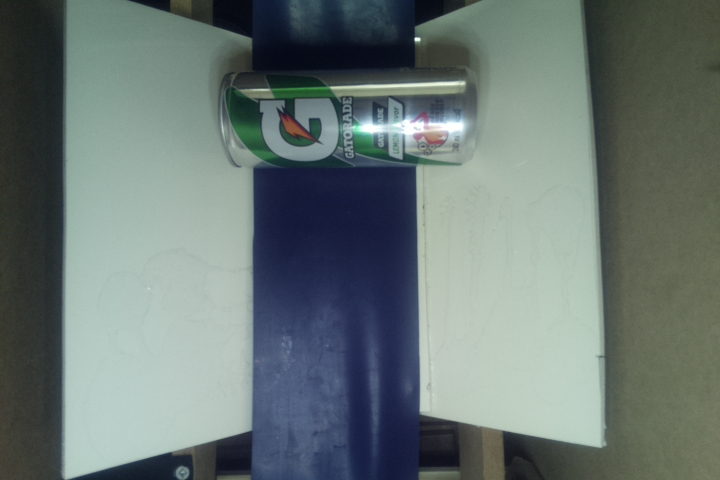can: (217, 62, 480, 174)
